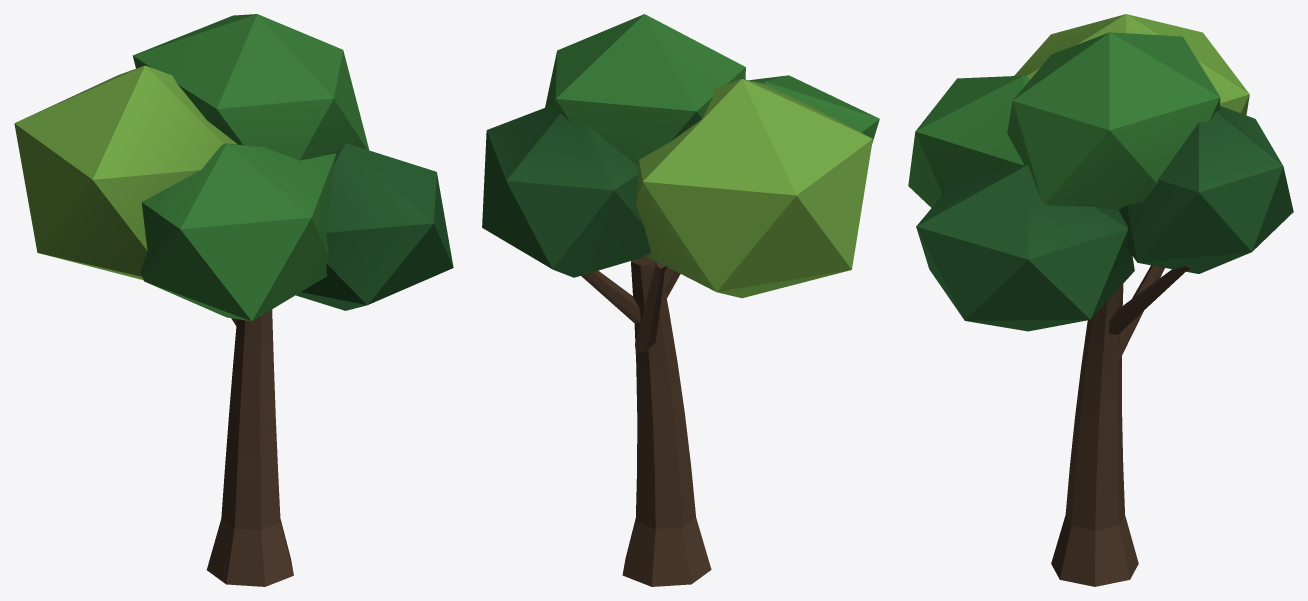
File: Tree3_L.fbx
The picture shows the model from 3 angles, left to right: view 1: azimuth 30°, elevation 25°; view 2: azimuth 150°, elevation 25°; view 3: azimuth 270°, elevation 25°; orthographic projection. The views are drawn at different scales.
Parts seen in each view (by area): view 1: Tree3_L; view 2: Tree3_L; view 3: Tree3_L.
Boxes of the visible parts, box(x1,y1,x2,y2) form: Tree3_L: box(14, 14, 453, 586); Tree3_L: box(482, 14, 879, 586); Tree3_L: box(908, 14, 1293, 586).
Bounding box in the file's own units: 5 × 7.45 × 4.8.
